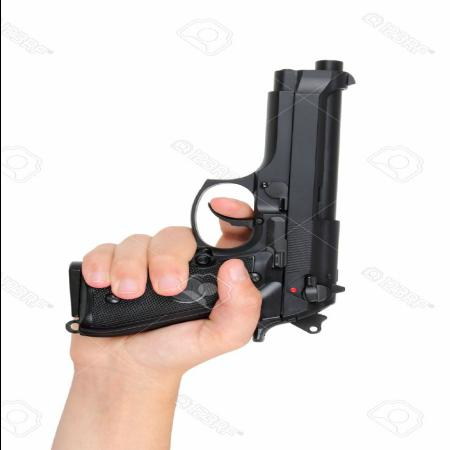Pistol: (64, 58, 357, 343)
